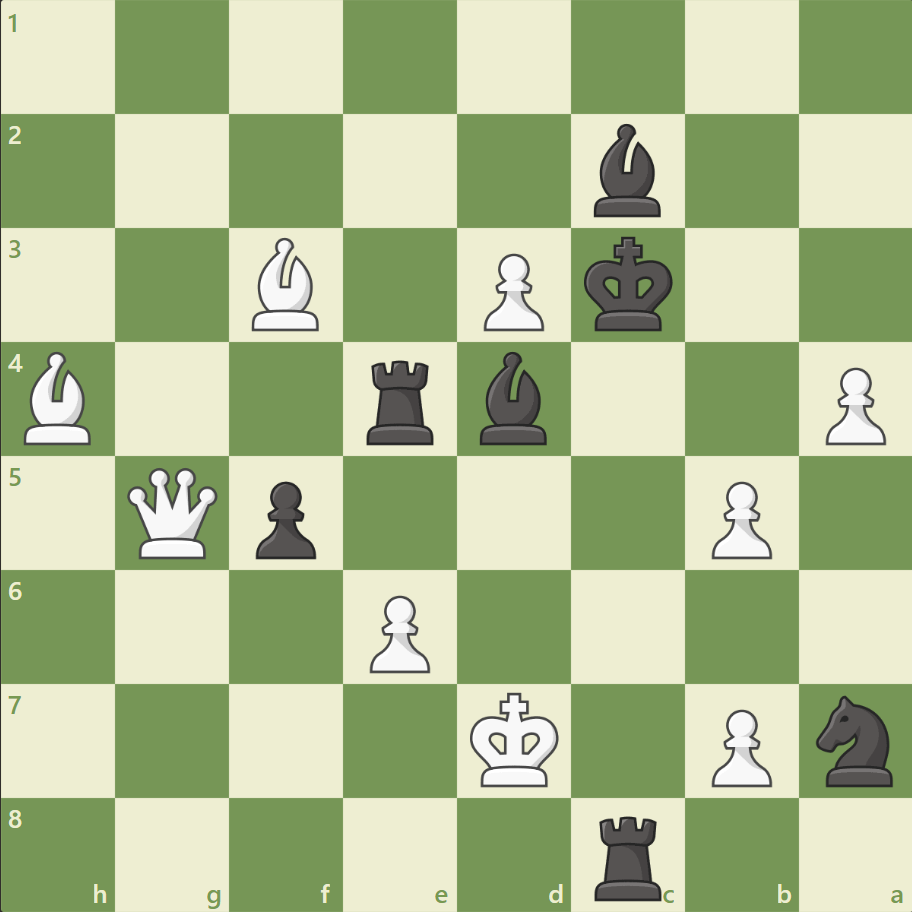B: (244, 233, 328, 336), (17, 347, 101, 449)
K: (465, 685, 565, 793)
P: (701, 700, 776, 791), (701, 473, 776, 564), (474, 246, 549, 337), (361, 586, 435, 677), (815, 359, 889, 450)
Q: (124, 463, 223, 562)
b: (471, 347, 555, 449), (585, 120, 669, 222)
k: (579, 231, 679, 339)
n: (806, 688, 903, 791)
p: (247, 473, 322, 564)
r: (587, 806, 670, 904), (360, 352, 442, 449)
